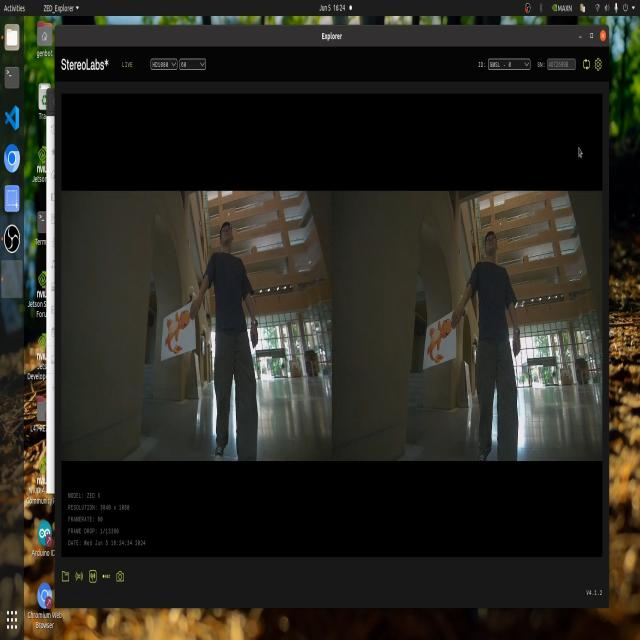red: (162, 301, 194, 363), (418, 316, 454, 360)
